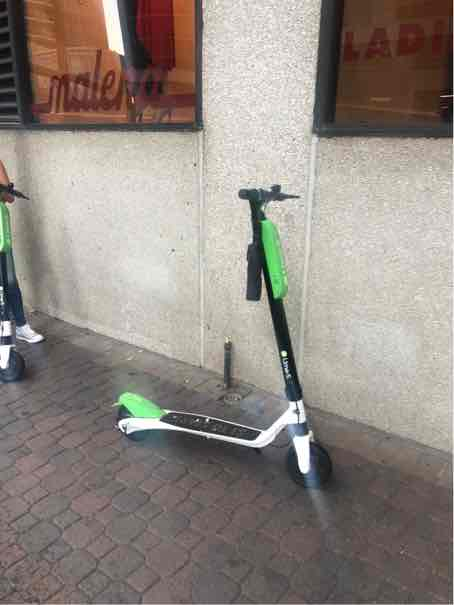scooter: (106, 162, 330, 497)
